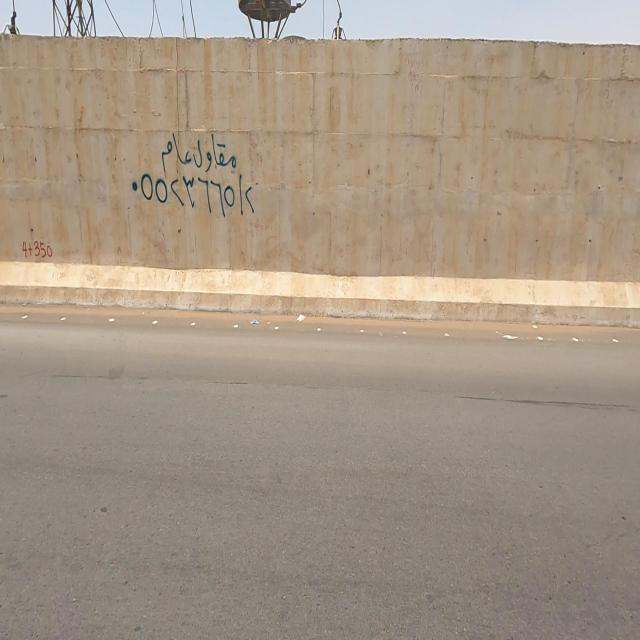Graffiti: (133, 132, 257, 220), (22, 241, 54, 264)
